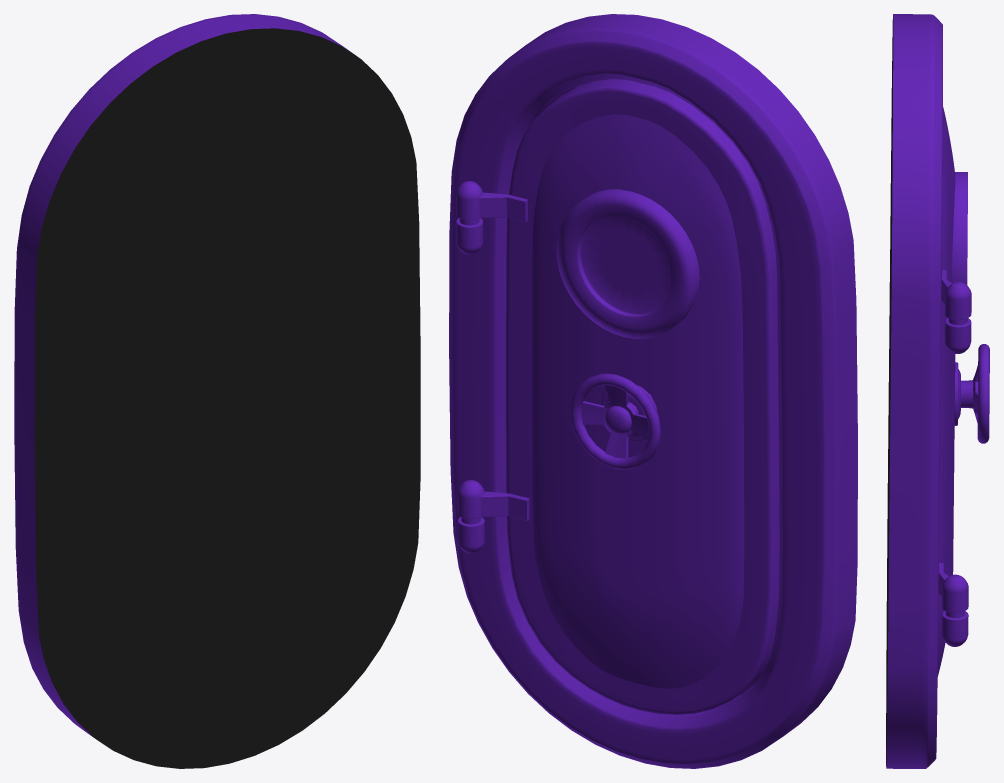
The model's file is Puerta.fbx.
3 renders of one model, left to right at view 1: azimuth 30°, elevation 25°; view 2: azimuth 150°, elevation 25°; view 3: azimuth 270°, elevation 25°, orthographic. The views are drawn at different scales.
Parts seen in each view (by area): view 1: body4; view 2: body4, port_window, pTorus256, pCylinder29, pCylinder18, pCube112, pCylinder26, pCylinder17; view 3: body4, port_window, pTorus256, pCylinder29, pCylinder18, pCylinder17, pCylinder26, pCube112.
Part boxes in pixels (box(x1,y1,x2,y2)): body4: box(14, 14, 420, 768); body4: box(449, 14, 857, 768); port_window: box(556, 189, 699, 338); pTorus256: box(570, 373, 660, 469); pCylinder29: box(457, 480, 529, 520); pCylinder18: box(456, 181, 527, 221); pCube112: box(601, 385, 657, 441); pCylinder26: box(457, 517, 484, 553); pCylinder17: box(456, 218, 483, 254); body4: box(886, 14, 955, 768); port_window: box(952, 172, 967, 285); pTorus256: box(973, 344, 989, 443); pCylinder29: box(938, 563, 968, 612); pCylinder18: box(941, 270, 971, 319); pCylinder17: box(944, 318, 971, 353); pCylinder26: box(941, 611, 968, 646); pCube112: box(954, 362, 973, 425).
Size of the model in its own units: 164 by 295 by 38.81.
